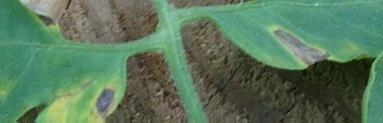Tomato leaf bacterial spot: (0, 0, 135, 123), (202, 0, 383, 88)
